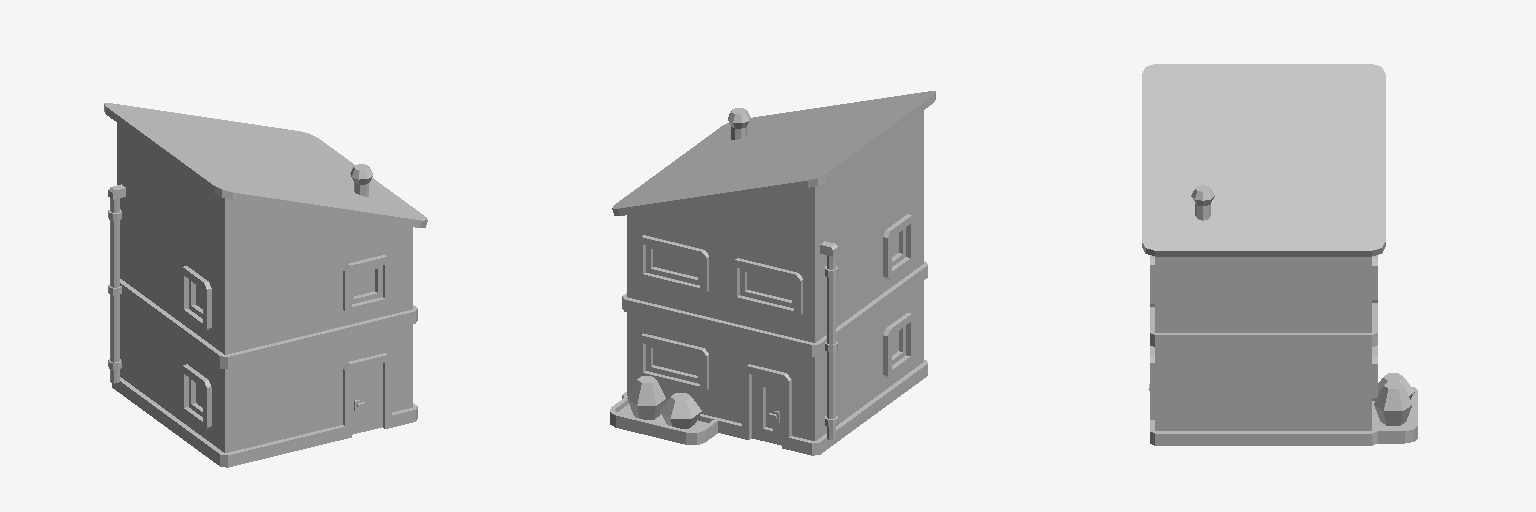
File: suburban_building-type-k.obj
3 views of the same model, side by side, from view 1: azimuth 30°, elevation 25°; view 2: azimuth 150°, elevation 25°; view 3: azimuth 270°, elevation 25° (orthographic).
Visible parts, largest first — view 1: building-type-k; view 2: building-type-k; view 3: building-type-k.
Part boxes in pixels (bbox=[...]): building-type-k: bbox=[104, 103, 427, 467]; building-type-k: bbox=[610, 91, 935, 455]; building-type-k: bbox=[1142, 64, 1417, 445].
Size of the model in its own units: 0.9209 by 1.15 by 1.02.